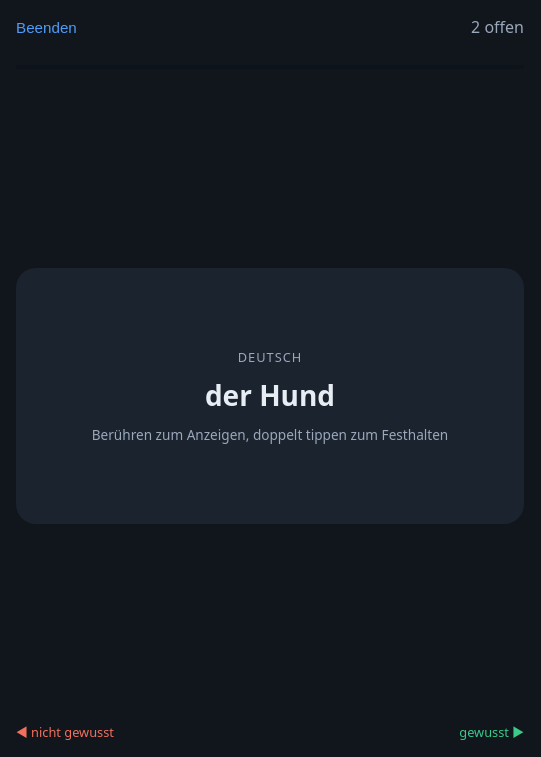
Scenario: SessionView › nimmt gelernte Wörter sofort heraus und endet, wenn alle gelernt sind
Later steps or results of the test are not shown.
Expected: the text "2 offen" is shown, [471,16,524,38]
Press the mouse on the element that starts with "Deutsch" at (270, 396), box [16,268,524,524]
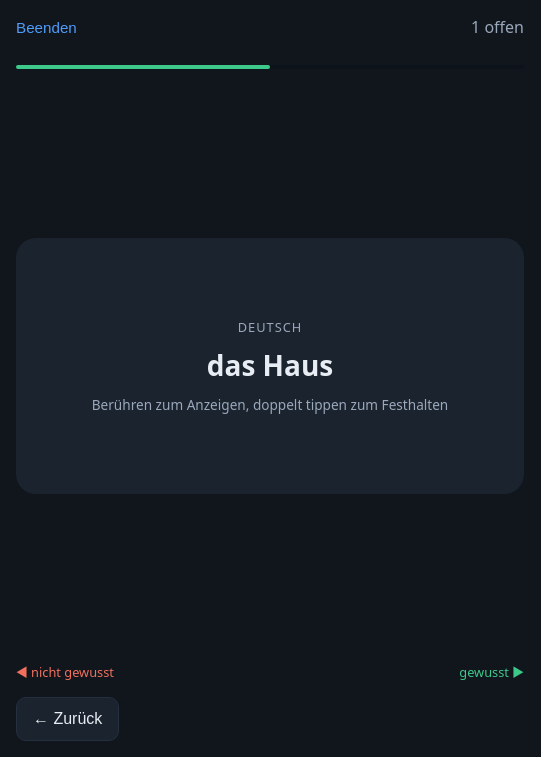
Now the text "1 offen" is shown, box [471,16,524,38]
